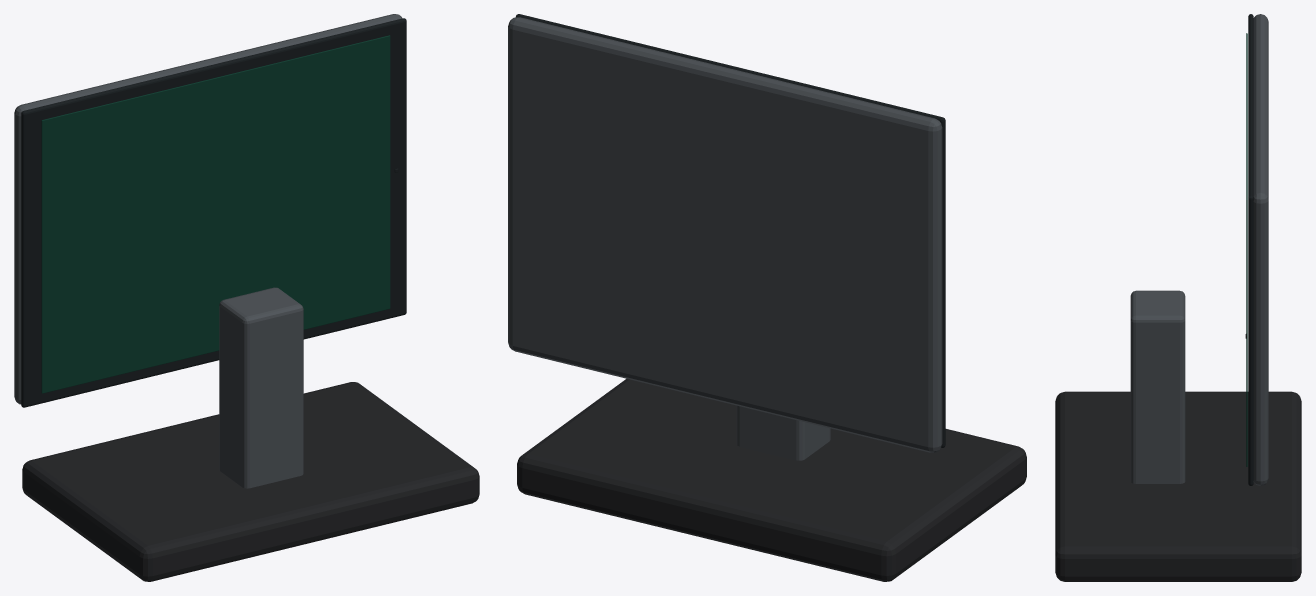
Rendered from better.glb.
The picture shows the model from 3 angles, left to right: view 1: azimuth 30°, elevation 25°; view 2: azimuth 150°, elevation 25°; view 3: azimuth 270°, elevation 25°; orthographic projection. The views are drawn at different scales.
Visible parts, largest first — view 1: Display landscape, Support base, Bezel, Support arm, iPad body; view 2: iPad body, Support base, Support arm, Bezel; view 3: Support base, Support arm, iPad body, Bezel, Display landscape.
Part boxes in pixels (x1,y1,x2,y2): Display landscape: (41, 35, 390, 393); Support base: (22, 382, 479, 581); Bezel: (21, 18, 406, 407); Support arm: (219, 287, 303, 488); iPad body: (14, 14, 402, 404); iPad body: (508, 17, 942, 452); Support base: (517, 378, 1026, 581); Support arm: (736, 405, 830, 460); Bezel: (516, 14, 945, 447); Support base: (1055, 391, 1301, 581); Support arm: (1130, 290, 1185, 483); iPad body: (1253, 14, 1268, 485); Bezel: (1248, 14, 1253, 485); Display landscape: (1246, 33, 1247, 466).
Size of the model in its own units: 0.32 by 0.323 by 0.18.
